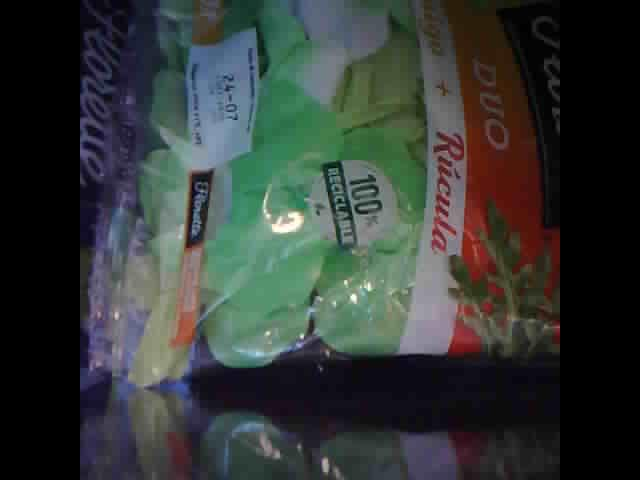florette: (117, 5, 561, 397), (81, 1, 159, 376)
